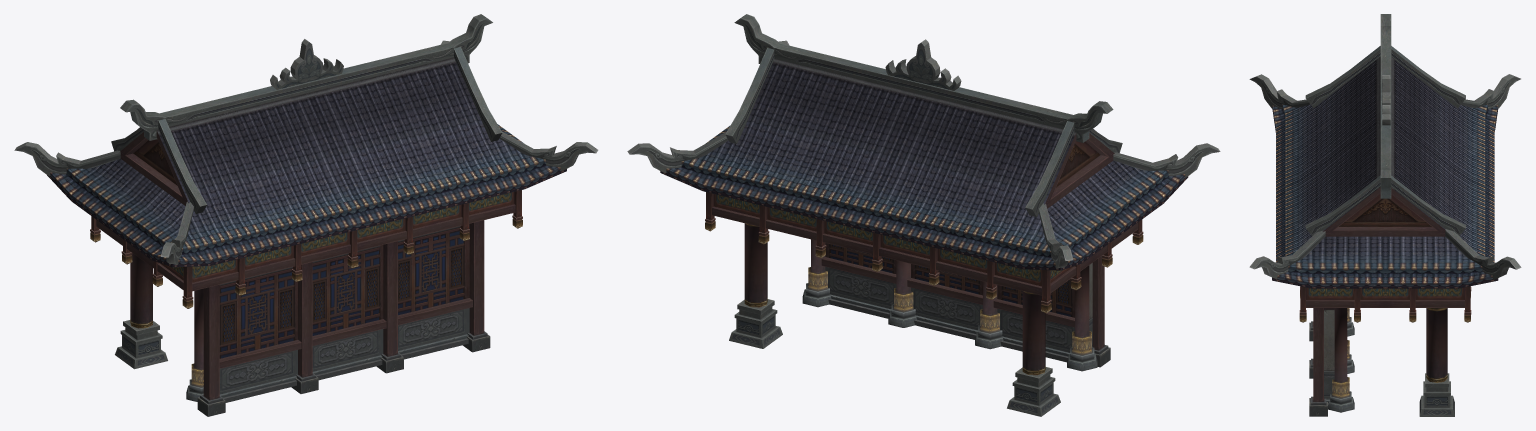
File: que_lou_004.FBX
The picture shows the model from 3 angles, left to right: view 1: azimuth 30°, elevation 25°; view 2: azimuth 150°, elevation 25°; view 3: azimuth 270°, elevation 25°; orthographic projection. The views are drawn at different scales.
Visible parts, largest first — view 1: que_lou_004_a01; view 2: que_lou_004_a01; view 3: que_lou_004_a01.
Boxes of the visible parts, left/top/right/bottom form: que_lou_004_a01: left=14, top=14, right=598, bottom=416; que_lou_004_a01: left=627, top=14, right=1220, bottom=416; que_lou_004_a01: left=1249, top=14, right=1521, bottom=416.
Bounding box in the file's own units: 2977 × 2013 × 1776.
Materials: 1 (1 with a texture image).
